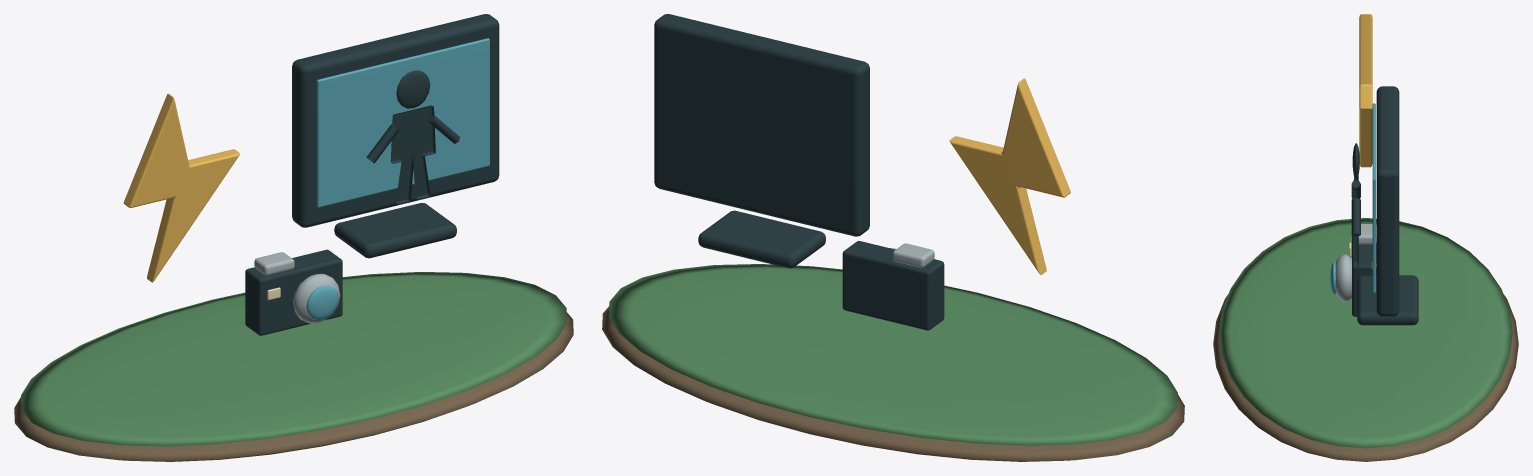
Rendered from complete-first-electric-shadow.glb.
3 renders of one model, left to right at view 1: azimuth 30°, elevation 25°; view 2: azimuth 150°, elevation 25°; view 3: azimuth 270°, elevation 25°, orthographic. The views are drawn at different scales.
Visible parts, largest first — view 1: complete-first-electric-shadow_surface_01, complete-first-electric-shadow_surface_03, complete-first-electric-shadow_surface_04, complete-first-electric-shadow_surface_00, complete-first-electric-shadow_surface_02, complete-first-electric-shadow_surface_06; view 2: complete-first-electric-shadow_surface_01, complete-first-electric-shadow_surface_03, complete-first-electric-shadow_surface_00, complete-first-electric-shadow_surface_02, complete-first-electric-shadow_surface_06; view 3: complete-first-electric-shadow_surface_01, complete-first-electric-shadow_surface_03, complete-first-electric-shadow_surface_00, complete-first-electric-shadow_surface_02, complete-first-electric-shadow_surface_06, complete-first-electric-shadow_surface_04.
Part boxes in pixels (x1,y1,x2,y2): complete-first-electric-shadow_surface_01: [21, 272, 566, 446]; complete-first-electric-shadow_surface_03: [245, 14, 499, 335]; complete-first-electric-shadow_surface_04: [306, 38, 489, 319]; complete-first-electric-shadow_surface_00: [14, 312, 573, 461]; complete-first-electric-shadow_surface_02: [123, 93, 239, 282]; complete-first-electric-shadow_surface_06: [254, 252, 340, 323]; complete-first-electric-shadow_surface_01: [609, 264, 1177, 445]; complete-first-electric-shadow_surface_03: [654, 14, 944, 330]; complete-first-electric-shadow_surface_00: [602, 306, 1184, 461]; complete-first-electric-shadow_surface_02: [949, 78, 1070, 274]; complete-first-electric-shadow_surface_06: [889, 243, 934, 267]; complete-first-electric-shadow_surface_01: [1219, 218, 1512, 448]; complete-first-electric-shadow_surface_03: [1351, 86, 1418, 325]; complete-first-electric-shadow_surface_00: [1213, 294, 1518, 461]; complete-first-electric-shadow_surface_02: [1359, 14, 1372, 167]; complete-first-electric-shadow_surface_06: [1335, 224, 1376, 301]; complete-first-electric-shadow_surface_04: [1330, 103, 1375, 294].
Bounding box in the file's own units: 4.56 × 2.62 × 2.5.
